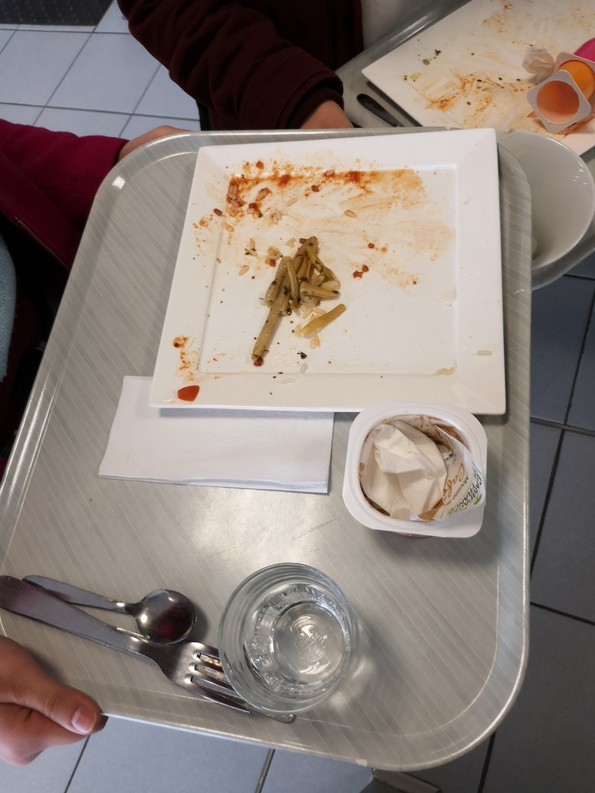orga: (256, 241, 341, 368)
trash: (78, 390, 337, 505), (331, 398, 506, 561), (527, 30, 595, 117)
